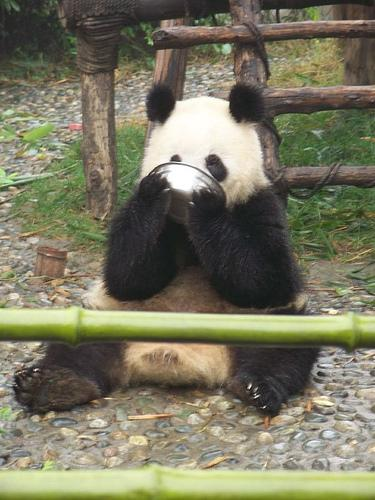panda: (84, 84, 306, 313), (14, 343, 318, 415)
